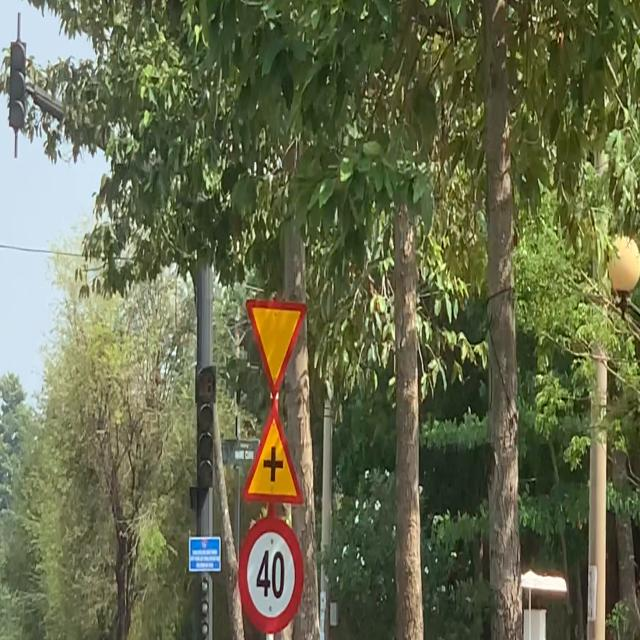Duong giao nhau: (241, 403, 303, 506)
Giao voi duong uu tien: (244, 297, 308, 399)
Toc do toi da: (238, 516, 304, 634)
